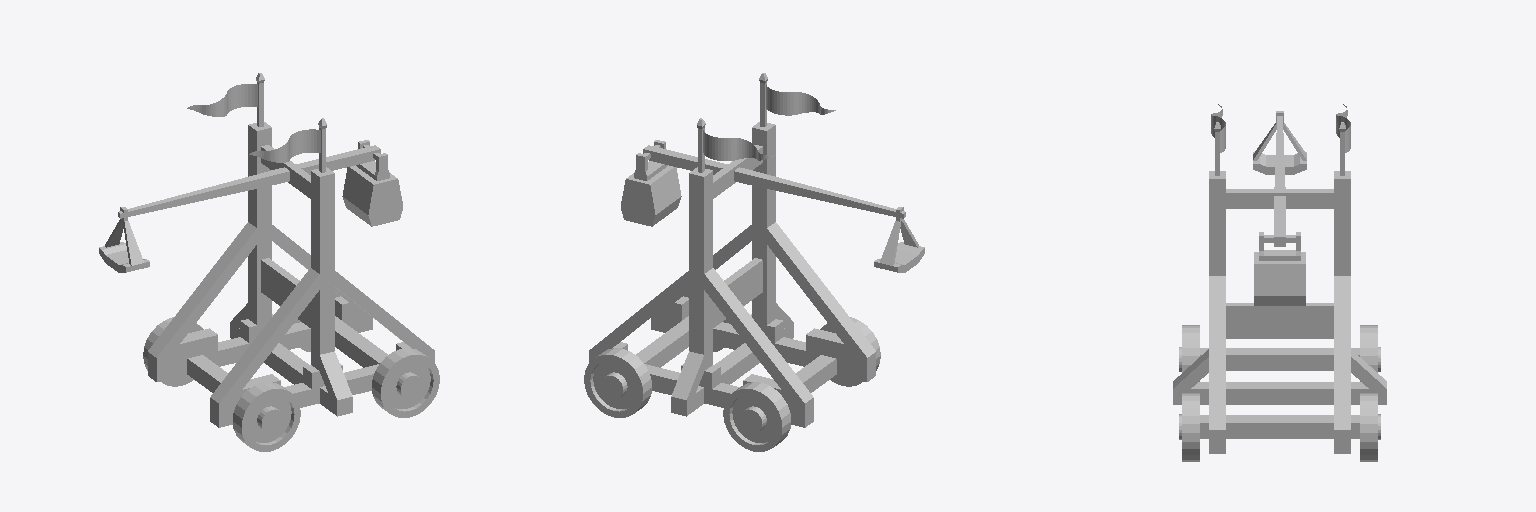
The model's file is siegeTrebuchet.obj.
The picture shows the model from 3 angles: view 1: azimuth 30°, elevation 25°; view 2: azimuth 150°, elevation 25°; view 3: azimuth 270°, elevation 25°; orthographic projection.
Visible parts, largest first — view 1: body 4, wheelBackRight 7, wheelFrontRight 9, weight 1, trebuchet 1, catapult 3, flag 17, flag 16, wheelBackLeft 7; view 2: body 4, wheelBackLeft 7, wheelFrontLeft 9, weight 1, trebuchet 1, catapult 3, flag 16, flag 17, wheelBackRight 7; view 3: body 4, weight 1, wheelFrontLeft 9, wheelFrontRight 9, catapult 3, trebuchet 1, wheelBackLeft 7, wheelBackRight 7, flag 16, flag 17.
Boxes of the visible parts, x1,y1,x2,y2 form: body 4: [148, 122, 434, 427]; wheelBackRight 7: [233, 382, 300, 451]; wheelFrontRight 9: [372, 348, 439, 417]; weight 1: [342, 140, 402, 226]; trebuchet 1: [118, 145, 380, 218]; catapult 3: [99, 207, 149, 272]; flag 17: [187, 73, 264, 126]; flag 16: [249, 118, 326, 172]; wheelBackLeft 7: [143, 317, 203, 386]; body 4: [589, 122, 875, 427]; wheelBackLeft 7: [723, 382, 790, 451]; wheelFrontLeft 9: [584, 348, 651, 417]; weight 1: [621, 140, 681, 226]; trebuchet 1: [643, 145, 905, 218]; catapult 3: [874, 207, 924, 272]; flag 16: [759, 73, 835, 126]; flag 17: [697, 118, 774, 172]; wheelBackRight 7: [820, 317, 880, 386]; body 4: [1173, 171, 1386, 453]; weight 1: [1254, 232, 1305, 305]; wheelFrontLeft 9: [1360, 393, 1380, 461]; wheelFrontRight 9: [1179, 393, 1199, 461]; catapult 3: [1253, 111, 1306, 174]; trebuchet 1: [1274, 116, 1285, 246]; wheelBackLeft 7: [1360, 325, 1380, 381]; wheelBackRight 7: [1179, 325, 1199, 381]; flag 16: [1211, 104, 1225, 175]; flag 17: [1336, 104, 1350, 175].
Size of the model in its own units: 19.5 by 19.59 by 12.58.